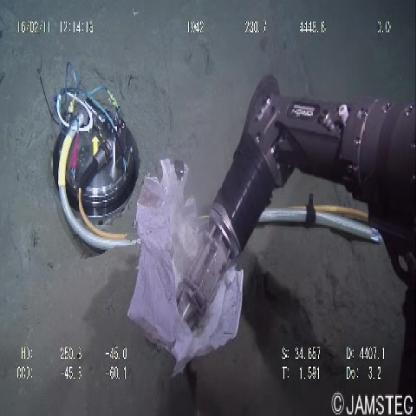Rov: (174, 82, 416, 339), (31, 55, 136, 256)
Rác: (125, 151, 249, 388)
